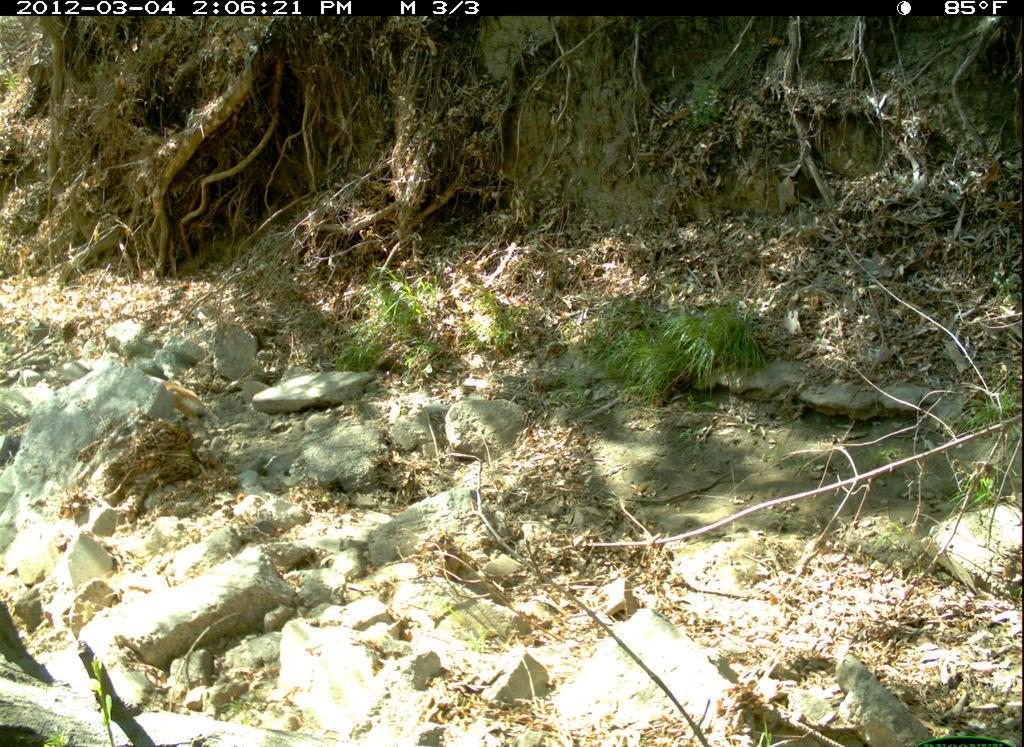cat: (130, 372, 232, 434)
